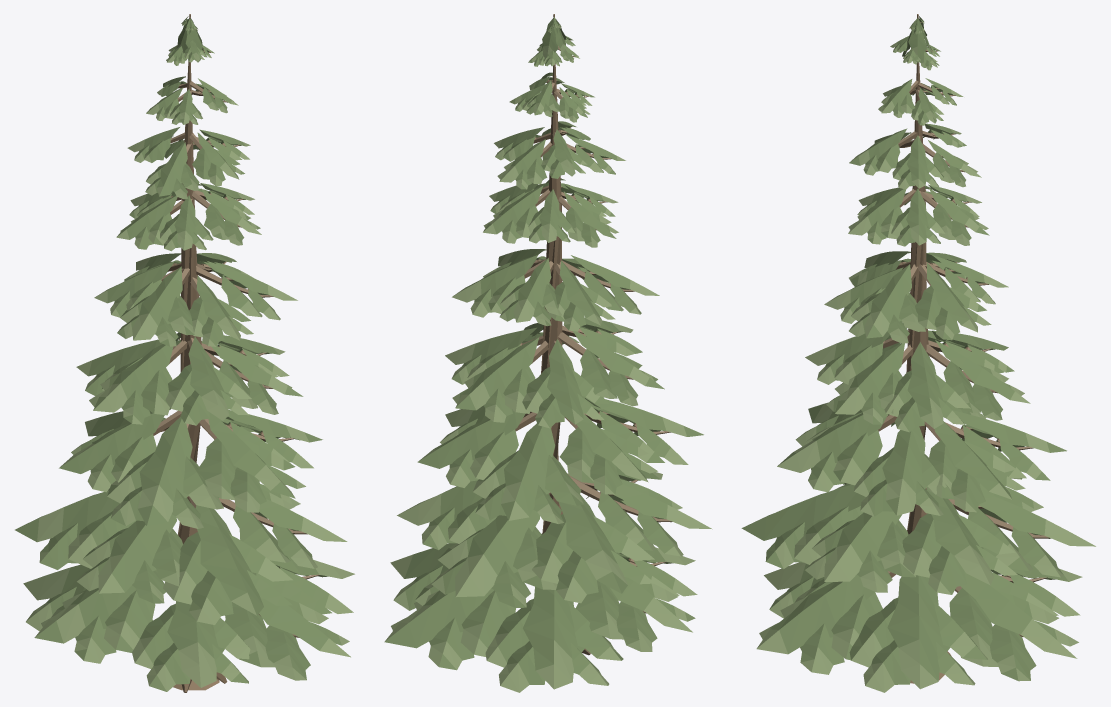
The model's file is Tree_A.fbx.
3 views of the same model, side by side, from view 1: azimuth 30°, elevation 25°; view 2: azimuth 150°, elevation 25°; view 3: azimuth 270°, elevation 25° (orthographic). The views are drawn at different scales.
Parts seen in each view (by area): view 1: Foliage, Wood; view 2: Foliage, Wood; view 3: Foliage, Wood.
Boxes of the visible parts, x1,y1,x2,y2 form: Foliage: (15, 16, 354, 691); Wood: (153, 14, 319, 692); Foliage: (384, 17, 712, 692); Wood: (515, 14, 672, 655); Foliage: (741, 16, 1095, 692); Wood: (878, 14, 1050, 683).
Bounding box in the file's own units: 1.24 × 2.5 × 1.22.
